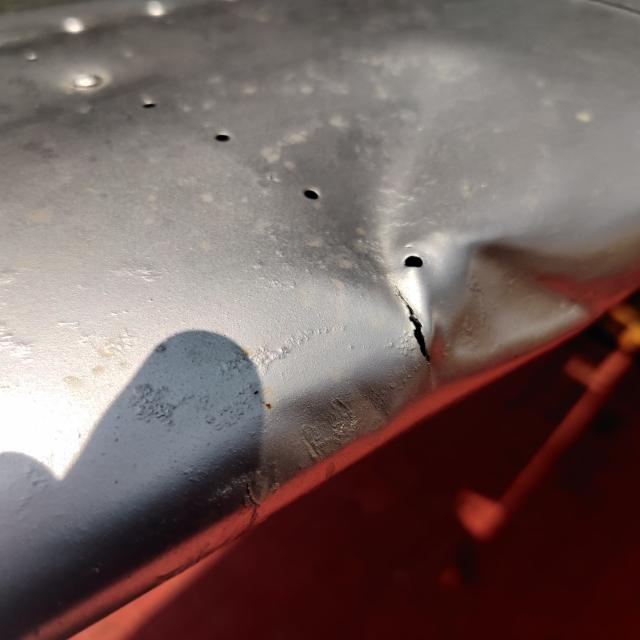crack: (376, 273, 444, 387)
dent: (394, 194, 640, 390), (273, 77, 461, 316)
